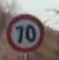limite 70: (6, 12, 45, 52)
